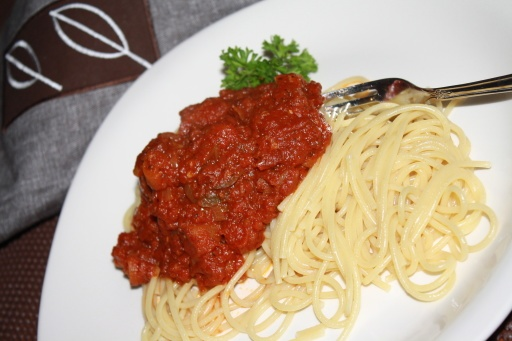background: (88, 18, 398, 181)
